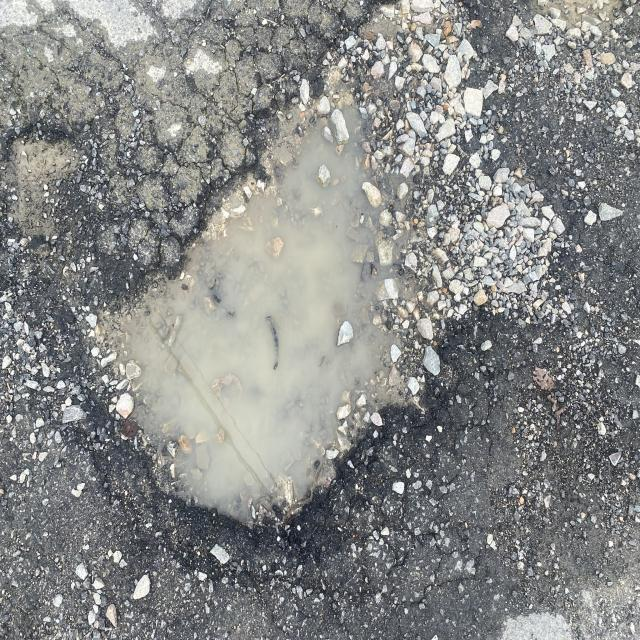Pothole: (36, 69, 606, 568)
